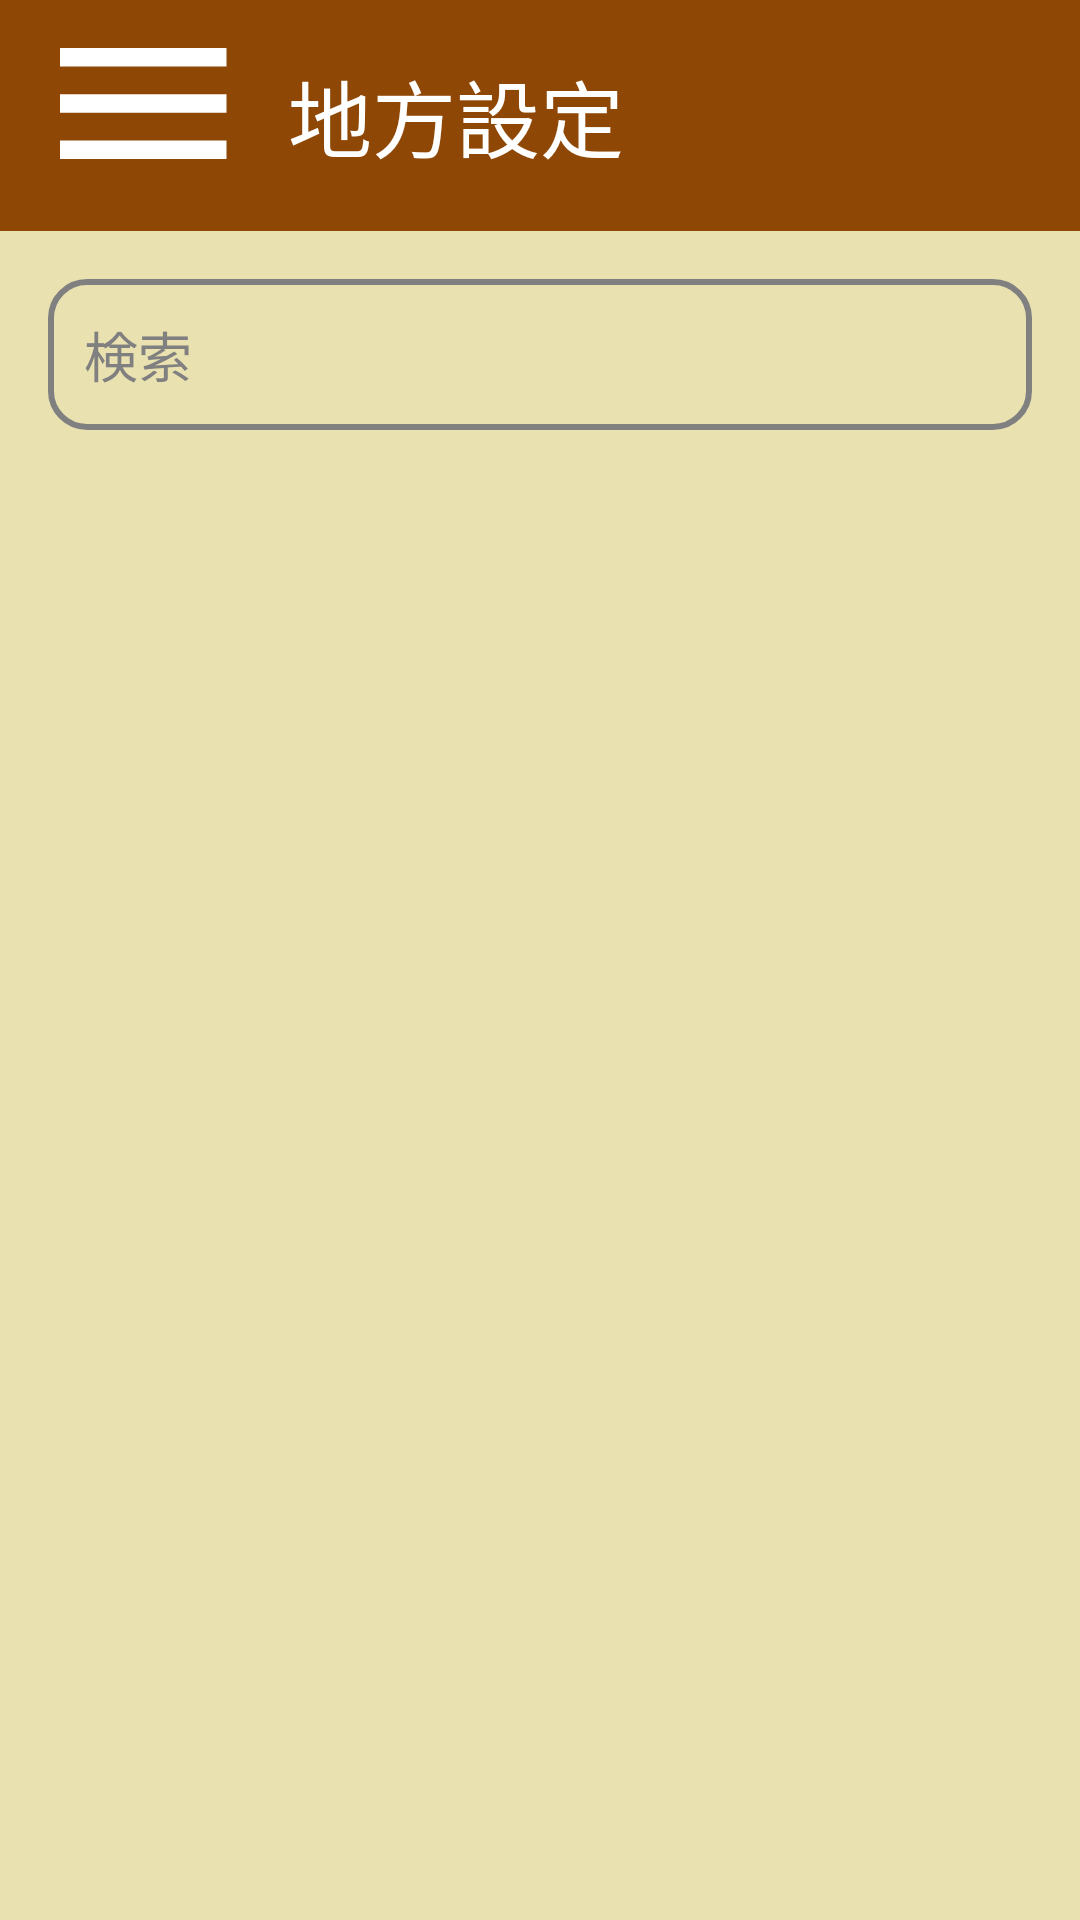

Icons on this 1080w x 1920h Android screen, each with the point to tap as (x,y):
menu: (143,103)
